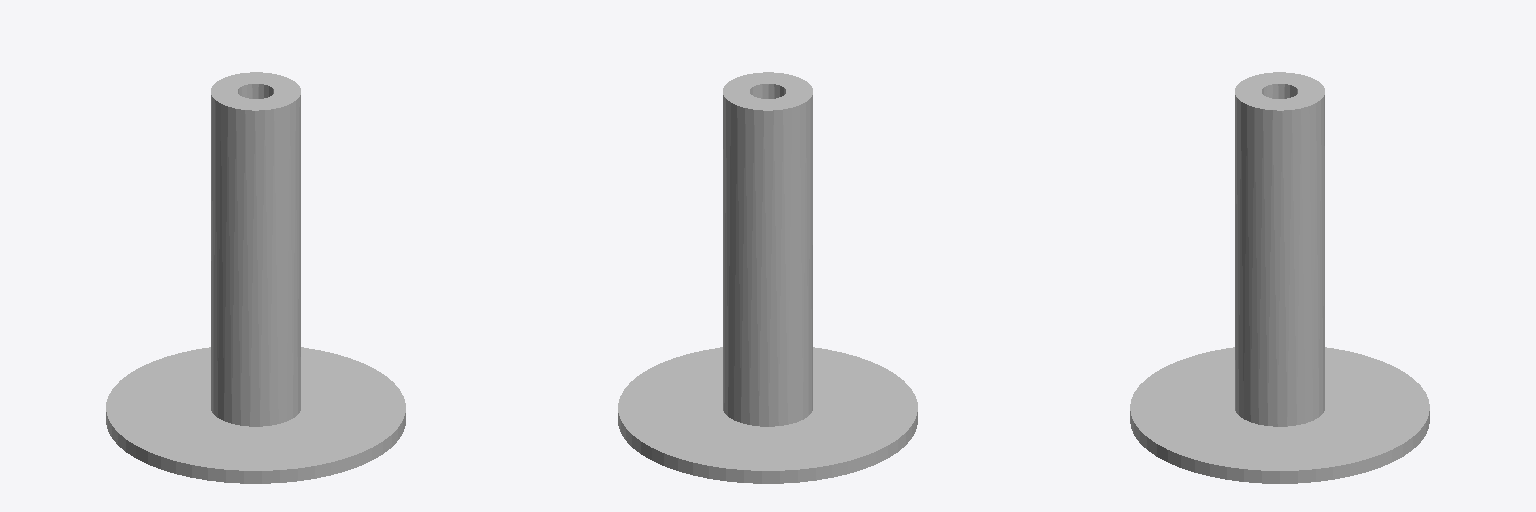
The model's file is OJB_Solid1_3.obj.
The picture shows the model from 3 angles: view 1: azimuth 30°, elevation 25°; view 2: azimuth 150°, elevation 25°; view 3: azimuth 270°, elevation 25°; orthographic projection.
Visible parts, largest first — view 1: Solid1; view 2: Solid1; view 3: Solid1.
Part boxes in pixels (x1,y1,x2,y2): Solid1: (106, 72, 405, 483); Solid1: (618, 72, 917, 483); Solid1: (1130, 72, 1429, 483).
Bounding box in the file's own units: 2.42 × 2.93 × 2.42.